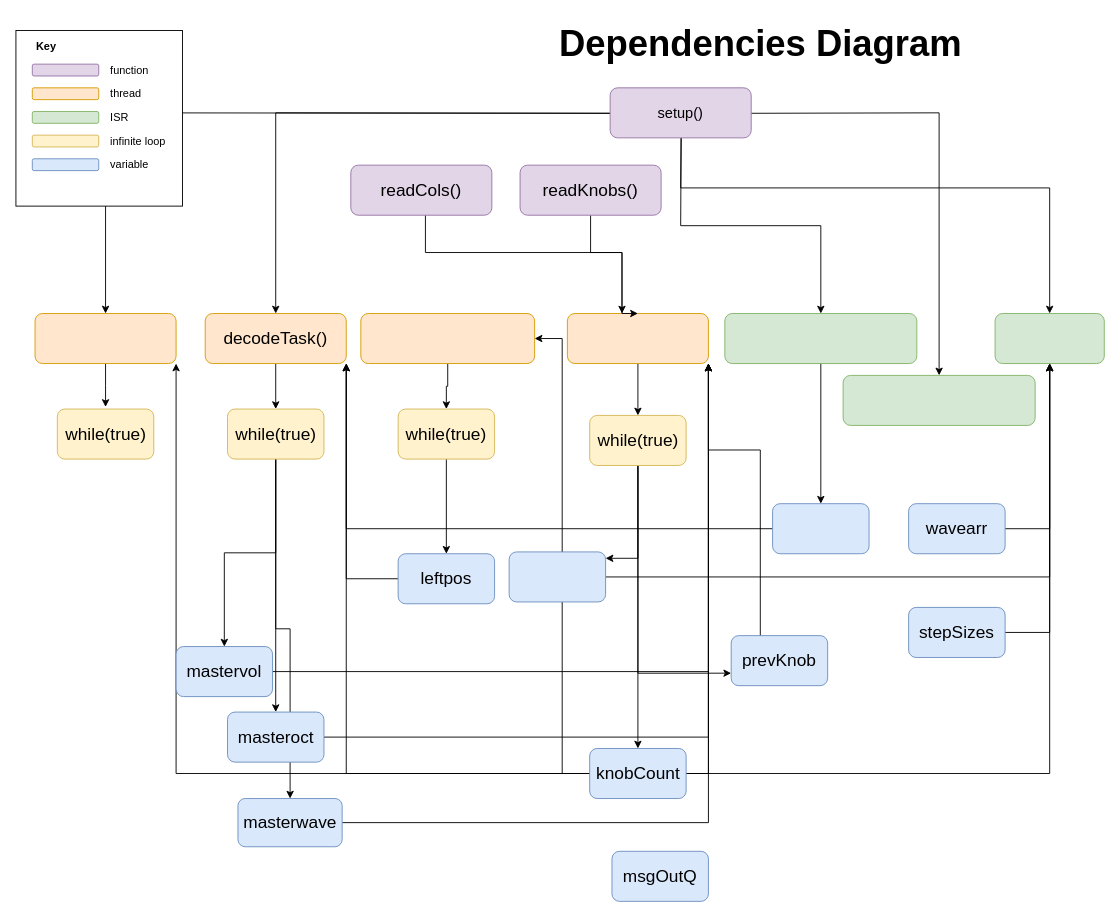
This 1120x917 diagram has some shape labels left out. Here are the shapes that lost their labels. From the top down, the centre of each, then its label:
At (105,338): "CAN_TX_Task()".
At (447,338): "displayUpdateTask()".
At (637,338): "scanKeysTask()".
At (820,338): "CAN_RegisterRX_ISR".
At (1049,338): "SampleISR".
At (938,399): "CAN_RegisterTX_ISR".
At (820,528): "msgInQ".
At (557,576): "KeyVal".
